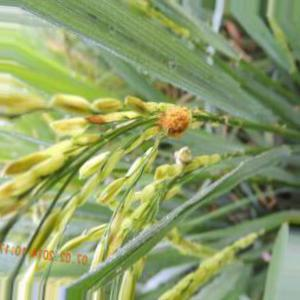Leaf_Scald: (156, 104, 195, 141), (78, 105, 102, 140)
